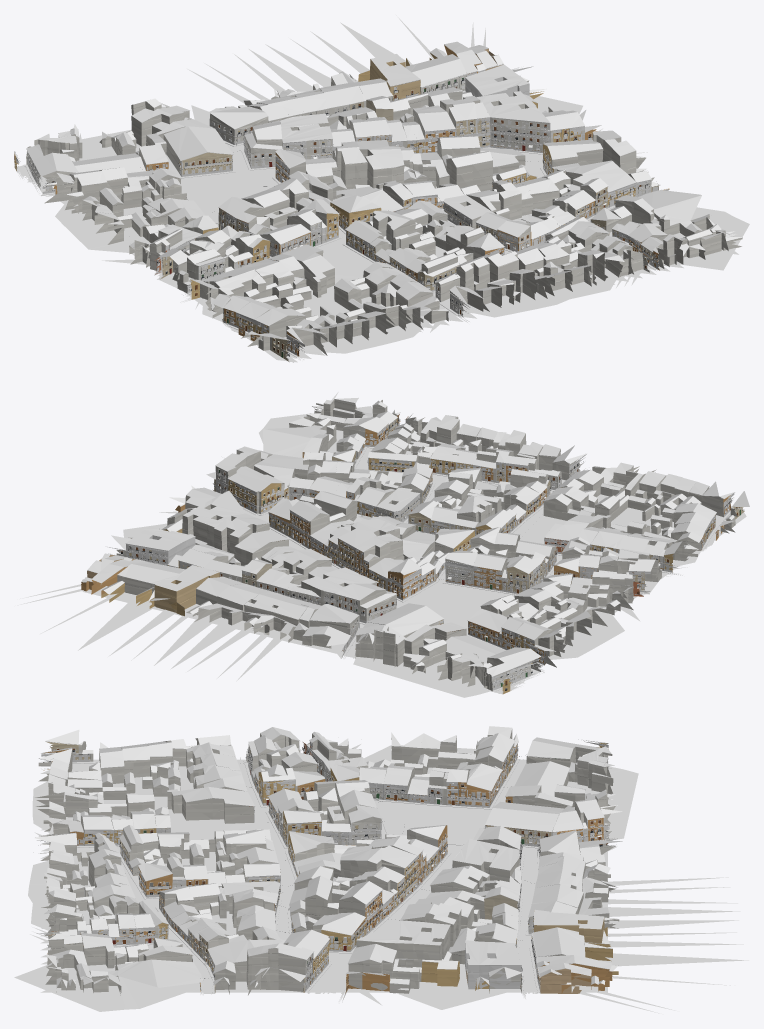
The model's file is zona_-1_-2.glb.
3 renders of one model, top to bottom at view 1: azimuth 30°, elevation 25°; view 2: azimuth 150°, elevation 25°; view 3: azimuth 270°, elevation 25°, orthographic. The views are drawn at different scales.
Visible parts, largest first — view 1: z_tejados_-1_-2, z_casas_-1_-2, z_calle_-1_-2, z_fachadas_-1_-2, z_casas_planas_-1_-2, z_suelo_-1_-2; view 2: z_tejados_-1_-2, z_casas_-1_-2, z_calle_-1_-2, z_fachadas_-1_-2, z_casas_planas_-1_-2, z_suelo_-1_-2; view 3: z_tejados_-1_-2, z_casas_-1_-2, z_calle_-1_-2, z_fachadas_-1_-2, z_casas_planas_-1_-2, z_suelo_-1_-2.
Boxes of the visible parts, x1=… form: z_tejados_-1_-2: x1=15, y1=41, x2=742, y2=344; z_casas_-1_-2: x1=14, y1=45, x2=742, y2=361; z_calle_-1_-2: x1=14, y1=15, x2=749, y2=362; z_fachadas_-1_-2: x1=14, y1=64, x2=669, y2=359; z_casas_planas_-1_-2: x1=34, y1=54, x2=721, y2=299; z_suelo_-1_-2: x1=17, y1=144, x2=590, y2=359; z_tejados_-1_-2: x1=81, y1=392, x2=749, y2=679; z_casas_-1_-2: x1=81, y1=399, x2=744, y2=693; z_calle_-1_-2: x1=17, y1=406, x2=746, y2=697; z_fachadas_-1_-2: x1=108, y1=414, x2=743, y2=693; z_casas_planas_-1_-2: x1=126, y1=408, x2=661, y2=688; z_suelo_-1_-2: x1=244, y1=472, x2=730, y2=693; z_tejados_-1_-2: x1=35, y1=726, x2=622, y2=989; z_casas_-1_-2: x1=35, y1=729, x2=619, y2=995; z_calle_-1_-2: x1=14, y1=744, x2=748, y2=1013; z_fachadas_-1_-2: x1=35, y1=740, x2=617, y2=999; z_casas_planas_-1_-2: x1=48, y1=741, x2=613, y2=989; z_suelo_-1_-2: x1=72, y1=756, x2=608, y2=993.
Size of the model in its own units: 231 by 15.34 by 264.
